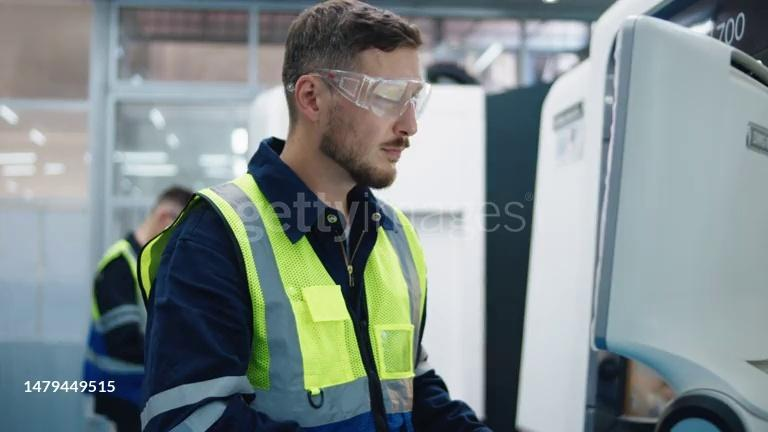person: (137, 1, 500, 432), (82, 185, 200, 432)
